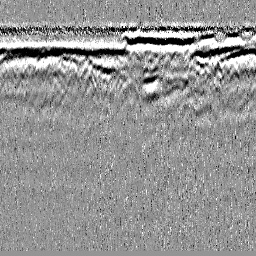cavity: (118, 76, 141, 102)
